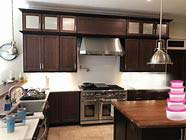copymove: (3, 113, 18, 133)
removal: (146, 75, 166, 86)
spliced: (165, 76, 186, 122)
